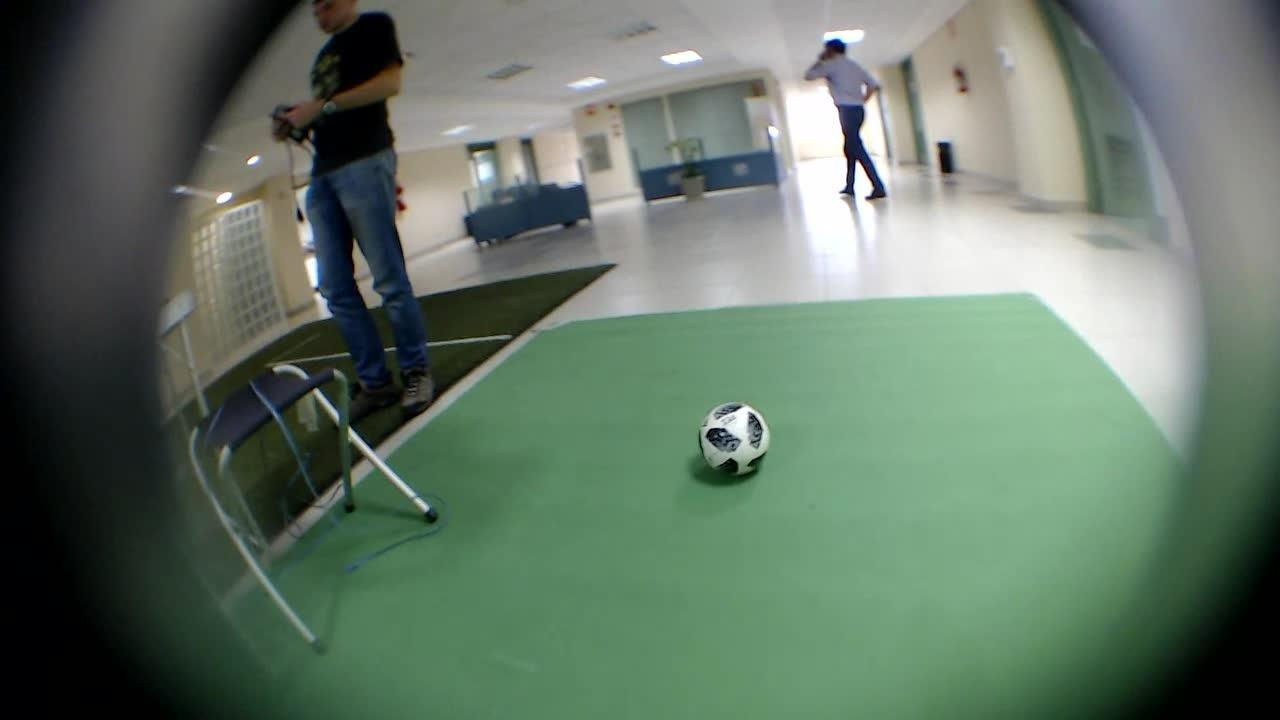ball: (676, 383, 788, 489)
